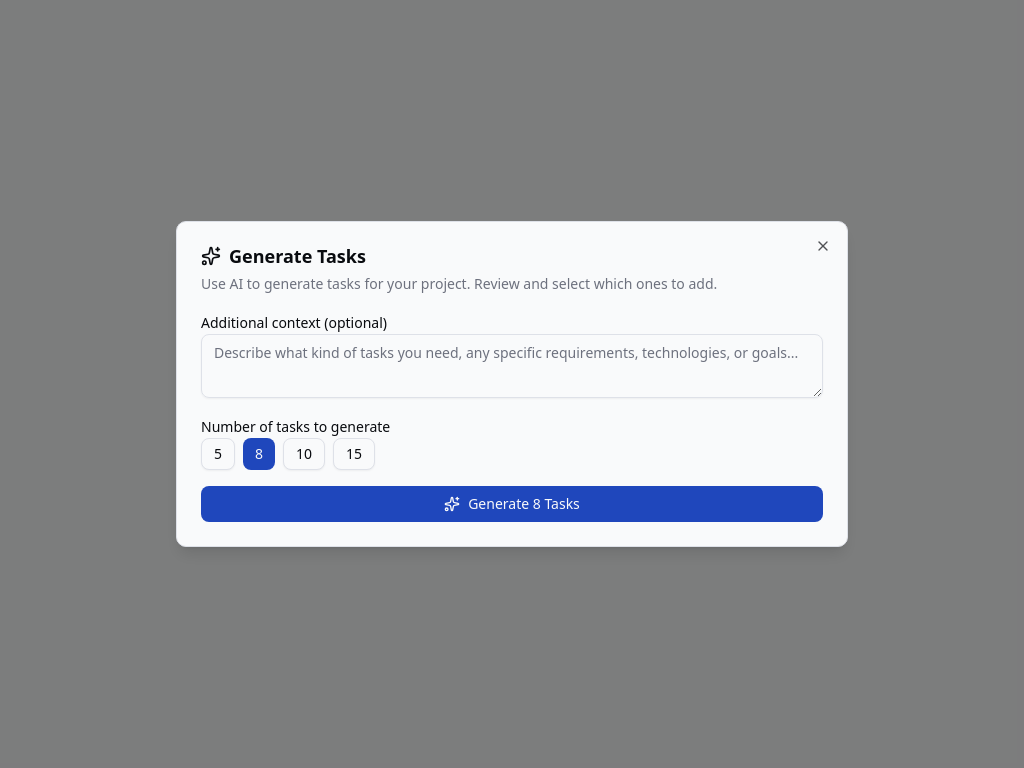
GenerateTasksDialog › shows loading state during generation
Click the button "Generate 8 Tasks": (512, 504) [201,486,823,522]
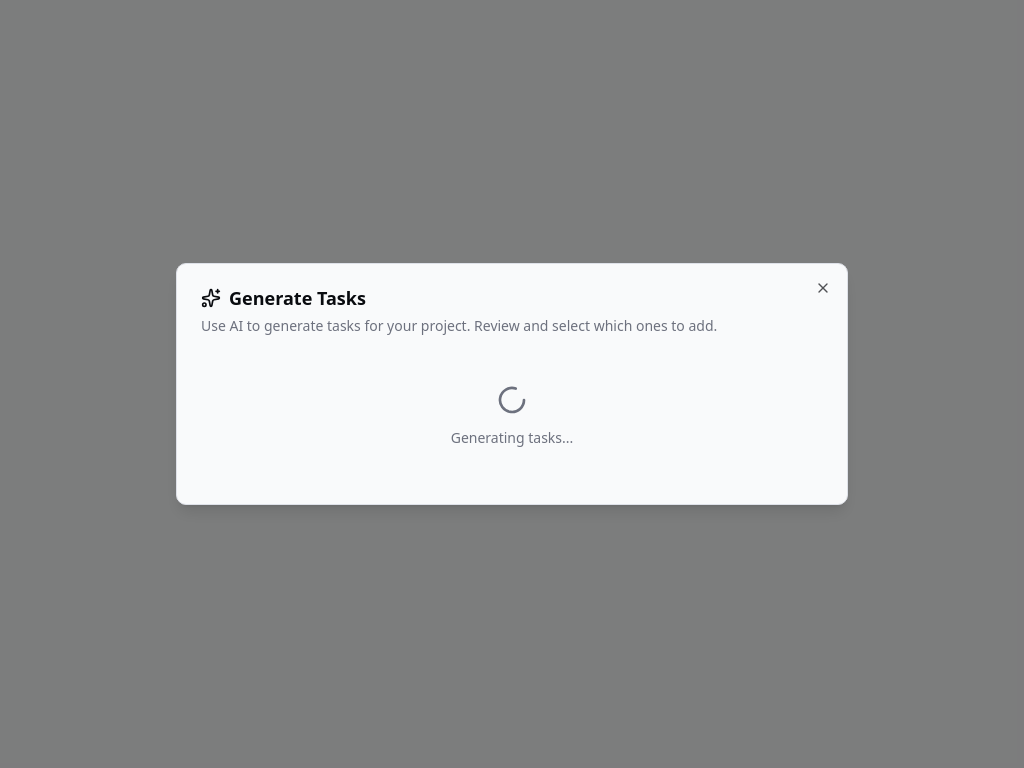
Expected: the text "Generating tasks..." is shown, [451,428,573,448]
